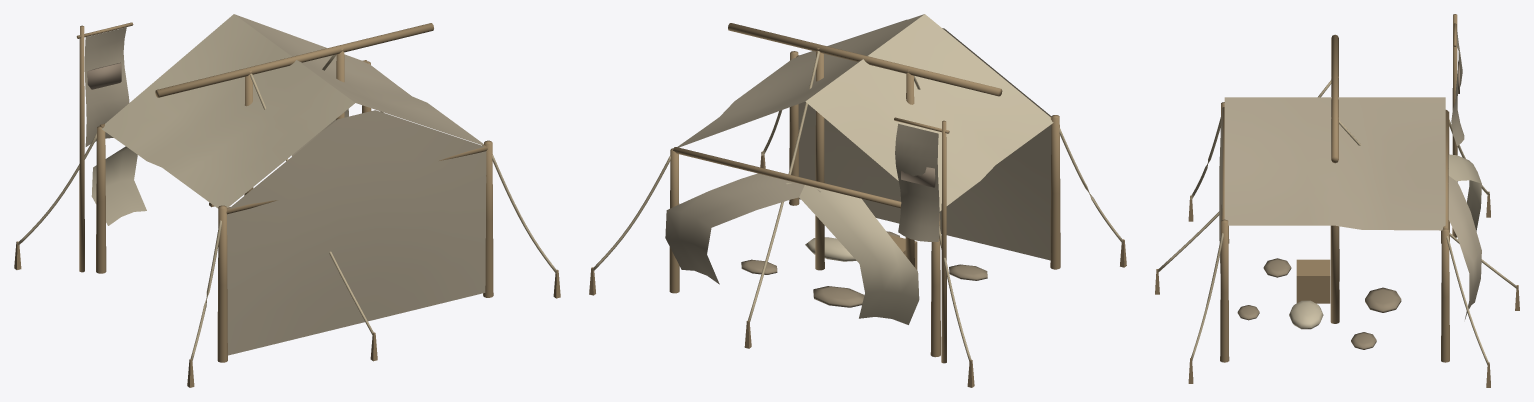
Rendered from hugues_pavilion.glb.
The picture shows the model from 3 angles, left to right: view 1: azimuth 30°, elevation 25°; view 2: azimuth 150°, elevation 25°; view 3: azimuth 270°, elevation 25°; orthographic projection. The views are drawn at different scales.
Parts seen in each view (by area): view 1: Pav_Canvas, Pav_Poles, Pav_Banner, Pav_Guys; view 2: Pav_Canvas, Pav_Poles, Pav_Banner, Pav_Guys, Pav_Camp; view 3: Pav_Canvas, Pav_Poles, Pav_Camp, Pav_Guys, Pav_Banner.
Boxes of the visible parts, left/top/right/bottom form: Pav_Canvas: left=91, top=14, right=486, bottom=355; Pav_Poles: left=96, top=23, right=493, bottom=362; Pav_Banner: left=76, top=22, right=133, bottom=272; Pav_Guys: left=14, top=54, right=560, bottom=387; Pav_Canvas: left=665, top=14, right=1053, bottom=324; Pav_Poles: left=669, top=23, right=1060, bottom=357; Pav_Banner: left=894, top=117, right=949, bottom=363; Pav_Guys: left=589, top=51, right=1126, bottom=387; Pav_Camp: left=741, top=231, right=987, bottom=307; Pav_Canvas: left=1219, top=97, right=1481, bottom=319; Pav_Poles: left=1220, top=34, right=1449, bottom=362; Pav_Camp: left=1237, top=258, right=1401, bottom=349; Pav_Guys: left=1155, top=80, right=1519, bottom=387; Pav_Banner: left=1451, top=14, right=1464, bottom=237.
Bounding box in the file's own units: 4.25 × 2.55 × 3.8.
